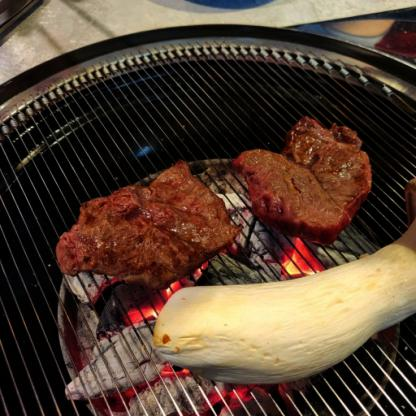Carne: (53, 160, 242, 292), (236, 123, 374, 238)
